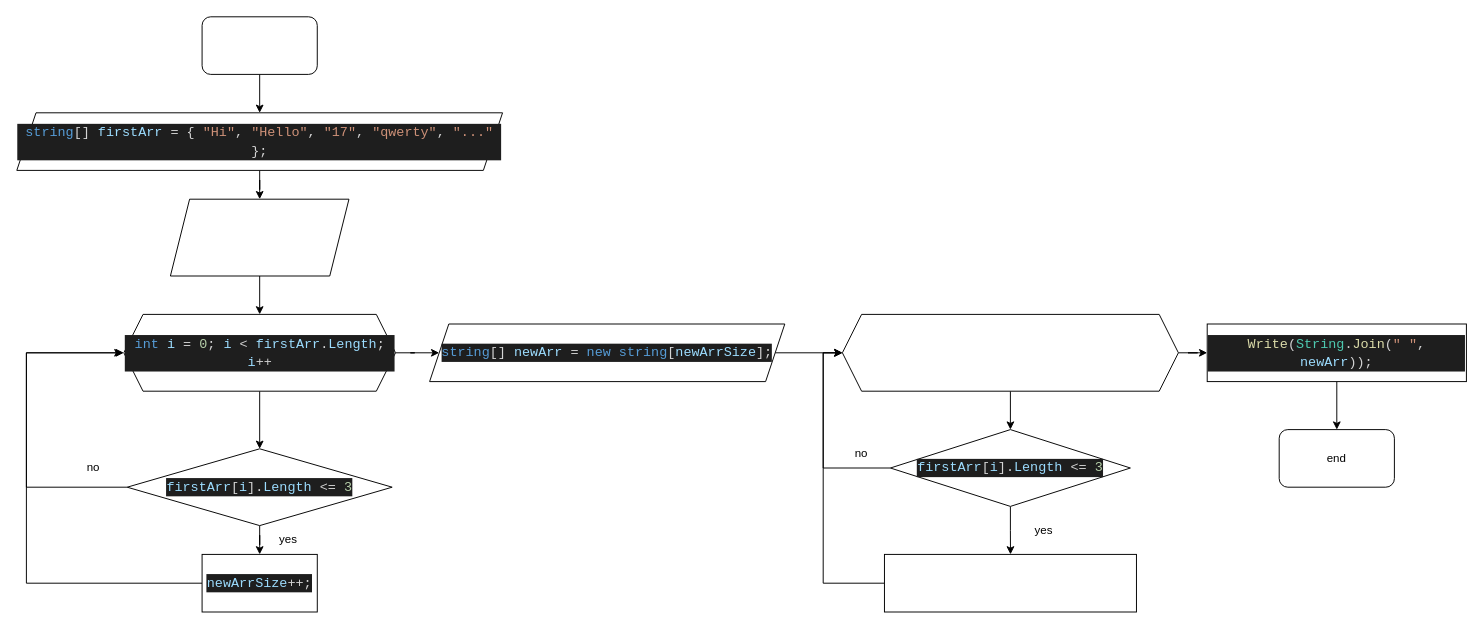
The diagram is 1483 pixels wide and 629 high, and some of its shapes have lost their labels. The shapes that lost their labels are listed below. From the top down, each one's box as (x1, y1, x2, y2) in pixels, then its label:
(201, 16, 317, 74): start
(169, 198, 349, 276): int newArrSize = 0 ; int counter = 0 ;
(841, 313, 1178, 391): for ( int i = 0 ; i < firstArr . Length ; i ++ )
(883, 553, 1136, 612): newArr [ counter ] = firstArr [ i ]; counter ++;
